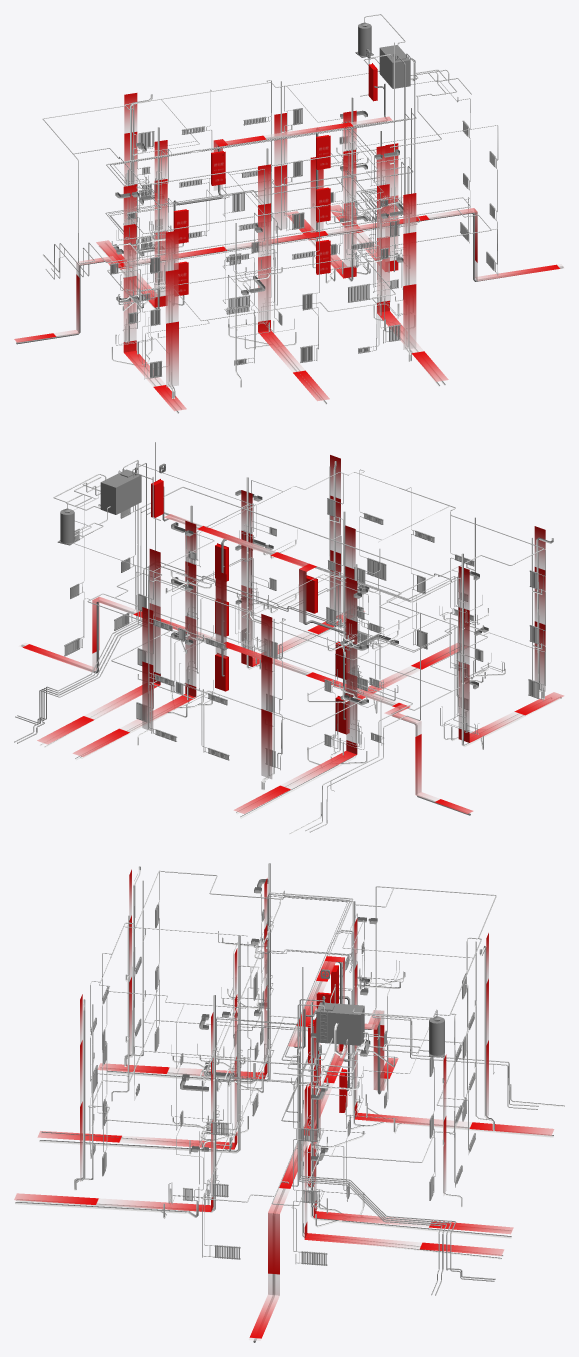
Rendered from jdzjss.gltf.
3 views of the same model, one above another, from view 1: azimuth 30°, elevation 25°; view 2: azimuth 150°, elevation 25°; view 3: azimuth 270°, elevation 25° (orthographic). The views are drawn at different scales.
Visible parts, largest first — view 1: zjss1cjdsglx, zjss1cjdsg, zjss2cjdsglx, zjss3cjdsg, zjss2cjdsg, zjss3cjdsglx, zjss3cjdxhs, zjss2cjdxhs, zjss1cjdxhs, zjssdcjdxhs, zjssdcjdsg; view 2: zjss1cjdsglx, zjss1cjdsg, zjss2cjdsglx, zjss3cjdsg, zjss2cjdsg, zjss3cjdsglx, zjss1cjdxhs, zjss2cjdxhs, zjss3cjdxhs, zjssdcjdxhs, zjssdcjdsg, zjss1cjdfg (+1 smaller); view 3: zjss1cjdsg, zjss1cjdsglx, zjss3cjdsg, zjss2cjdsg, zjssdcjdxhs, zjss3cjdsglx, zjss1cjdxhs, zjss2cjdsglx, zjssdcjdsg, zjss3cjdxhs, zjss2cjdxhs, zjss2cjdfg.
Part boxes in pixels (x1,y1,x2,y2): zjss1cjdsglx: [14, 165, 564, 411]; zjss1cjdsg: [16, 166, 563, 413]; zjss2cjdsglx: [123, 113, 416, 323]; zjss3cjdsg: [42, 71, 498, 269]; zjss2cjdsg: [78, 113, 497, 322]; zjss3cjdsglx: [123, 93, 416, 271]; zjss3cjdxhs: [127, 108, 495, 273]; zjss2cjdxhs: [110, 160, 495, 325]; zjss1cjdxhs: [128, 212, 494, 378]; zjssdcjdxhs: [355, 22, 410, 101]; zjssdcjdsg: [127, 14, 471, 184]; zjss1cjdsglx: [19, 550, 564, 813]; zjss1cjdsg: [14, 554, 561, 834]; zjss2cjdsglx: [142, 495, 545, 712]; zjss3cjdsg: [73, 461, 553, 656]; zjss2cjdsg: [80, 499, 545, 711]; zjss3cjdsglx: [164, 455, 545, 657]; zjss1cjdxhs: [64, 607, 539, 767]; zjss2cjdxhs: [70, 557, 538, 712]; zjss3cjdxhs: [74, 498, 538, 659]; zjssdcjdxhs: [57, 463, 165, 545]; zjssdcjdsg: [53, 442, 463, 579]; zjss1cjdfg: [171, 598, 478, 704]; zjss1cjdsg: [15, 973, 564, 1342]; zjss1cjdsglx: [14, 977, 554, 1340]; zjss3cjdsg: [83, 866, 496, 1129]; zjss2cjdsg: [83, 911, 486, 1189]; zjssdcjdxhs: [316, 969, 444, 1056]; zjss3cjdsglx: [80, 869, 488, 1067]; zjss1cjdxhs: [91, 1027, 475, 1265]; zjss2cjdsglx: [80, 915, 488, 1150]; zjssdcjdsg: [213, 863, 437, 1076]; zjss3cjdxhs: [90, 904, 474, 1142]; zjss2cjdxhs: [91, 959, 475, 1203]; zjss2cjdfg: [180, 938, 369, 1099].
Bounding box in the file's own units: 29.45 × 14.16 × 24.34.
11 materials, 2 textured.
